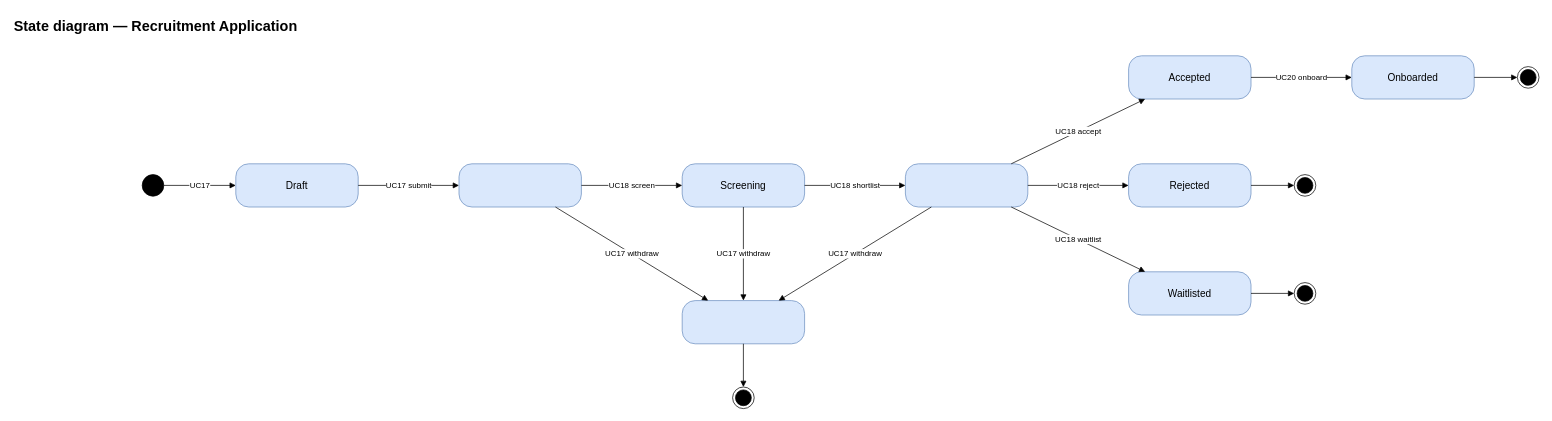
The diagram is 1552 pixels wide and 421 high, and some of its shapes have lost their labels. The box of each missing label's shape, as (x1, y1, x2, y2) in pixels:
Shortlisted: (905, 163, 1028, 207)
Submitted: (458, 163, 581, 207)
Withdrawn: (681, 300, 805, 344)
